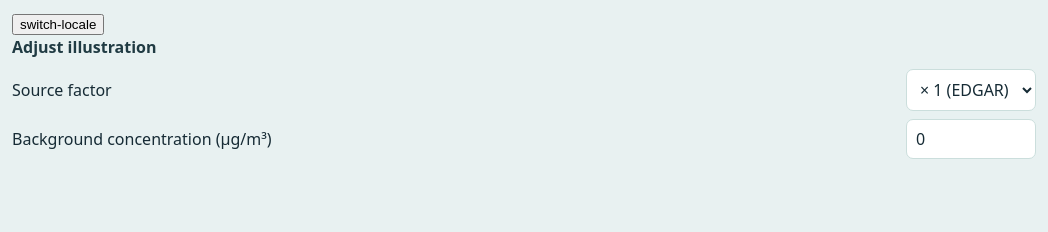
Scenario: back to original data › is hidden while the display is exact and shown as soon as either value changes
The image size is (1048, 232).
Check: the button "Back to original data" is not shown
Select "× 10" in the dropdown labelled "Source factor" at coordinates (971, 90), box [906,69,1036,111]
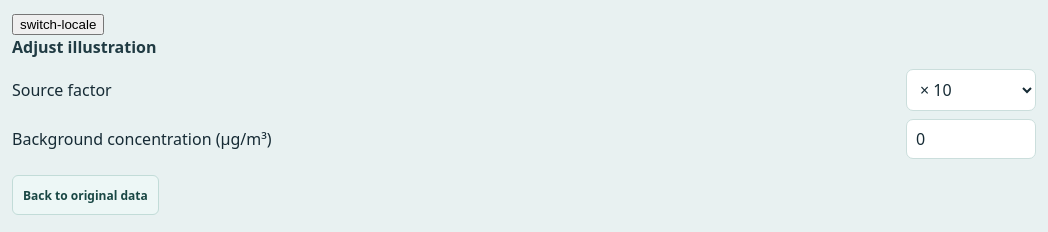
Check: the button "Back to original data" is shown, box [12,175,159,215]
Select "× 1 (EDGAR)" in the dropdown labelled "Source factor" at coordinates (971, 90), box [906,69,1036,111]
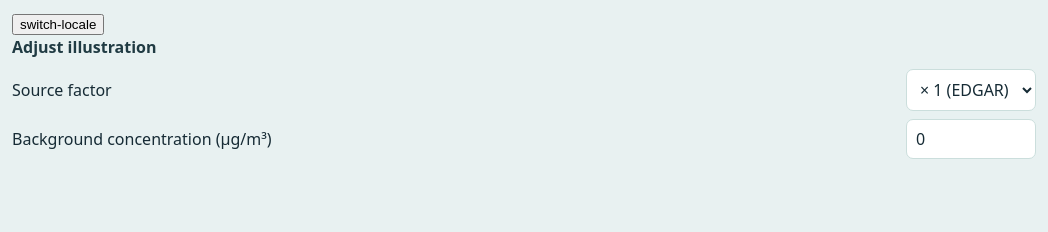
Check: the button "Back to original data" is gone
Replace the text in the number field labelled "Background concentration (µg/m³)" with "1" at coordinates (971, 139), box [906,119,1036,159]
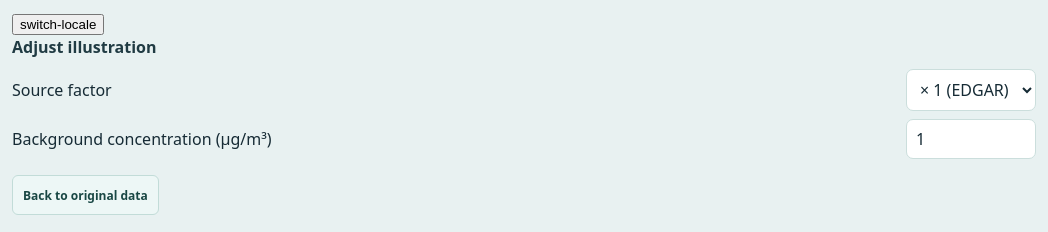
Check: the button "Back to original data" is shown, box [12,175,159,215]
